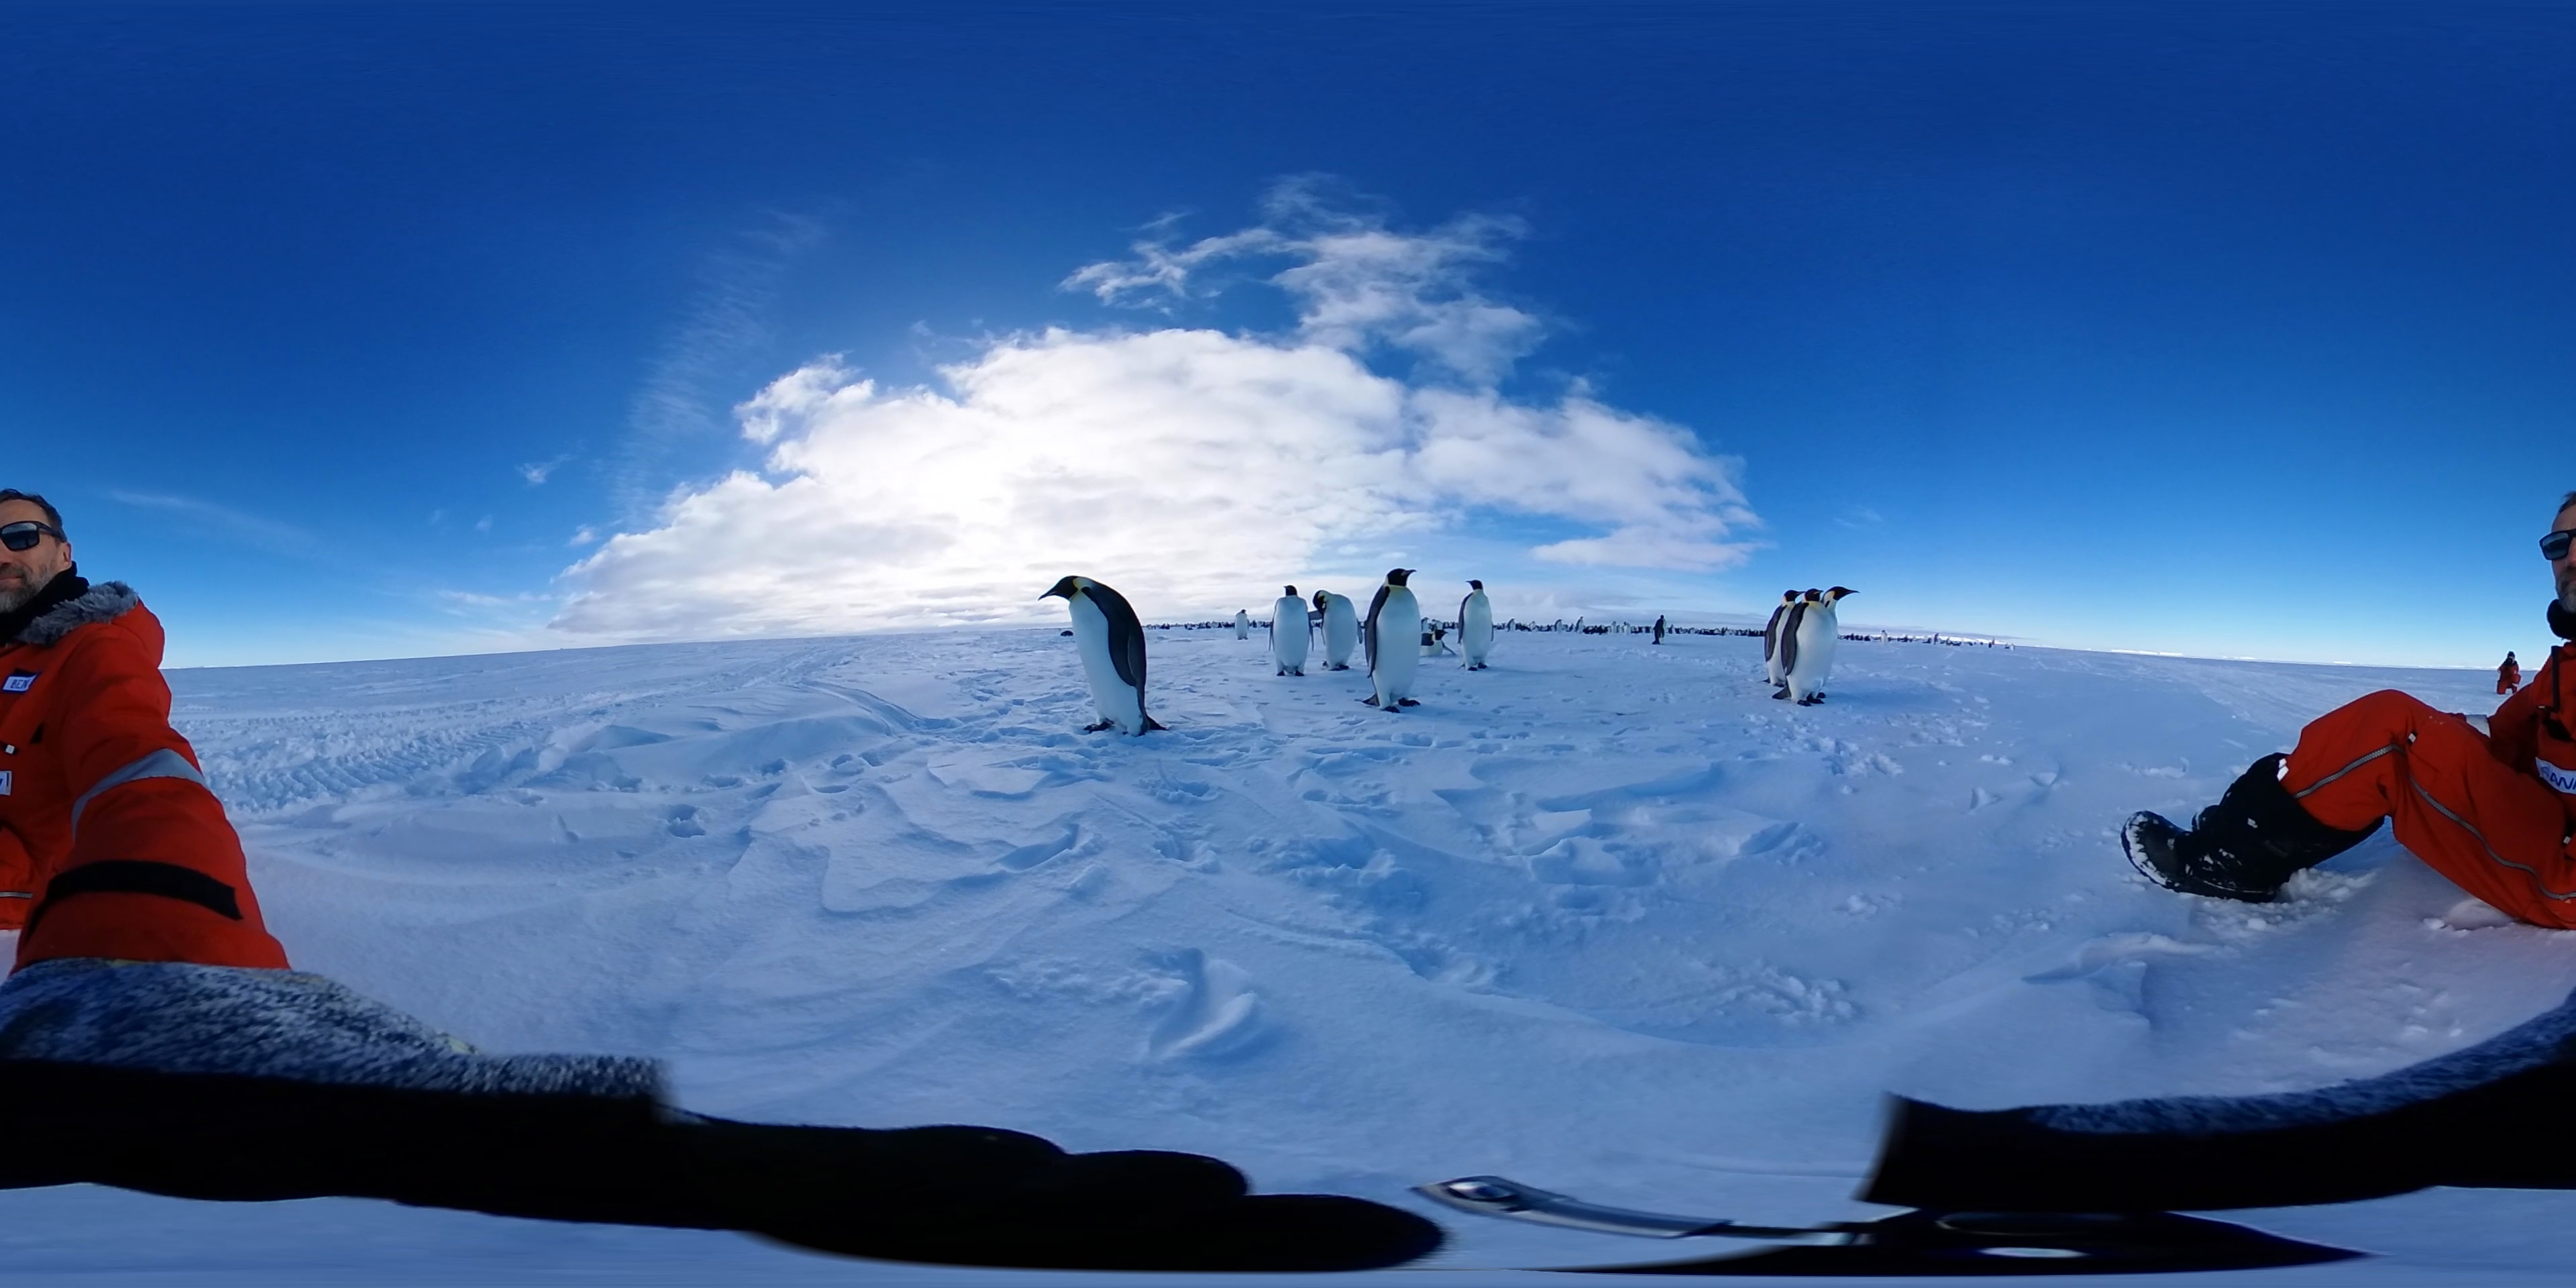adult_standing_penguin: (1035, 575, 1171, 736), (1355, 565, 1428, 716), (1782, 586, 1830, 710), (1309, 586, 1365, 677), (1263, 582, 1313, 678), (1817, 583, 1858, 695), (1764, 582, 1807, 688), (1452, 578, 1495, 674), (1649, 613, 1671, 649), (1230, 608, 1250, 641)
adult_toboggan_penguin: (1411, 626, 1457, 664)
researcher: (2126, 473, 2576, 902), (0, 483, 302, 1048), (2492, 651, 2528, 697)
